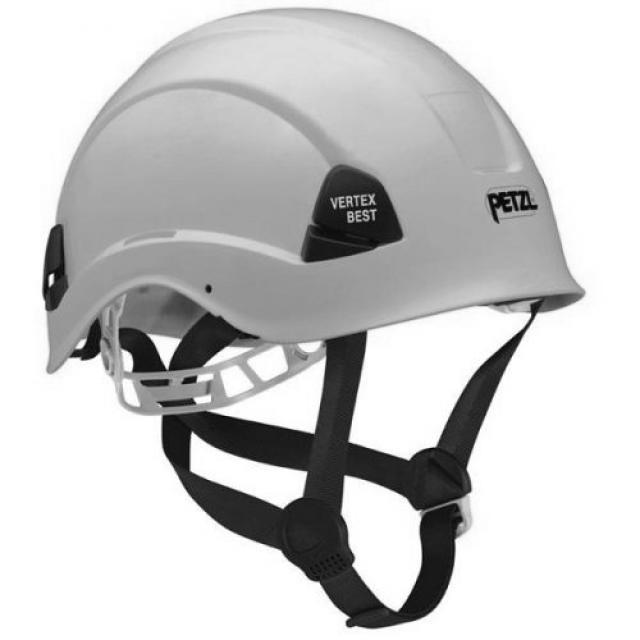safety_helmet: (40, 6, 585, 375)
